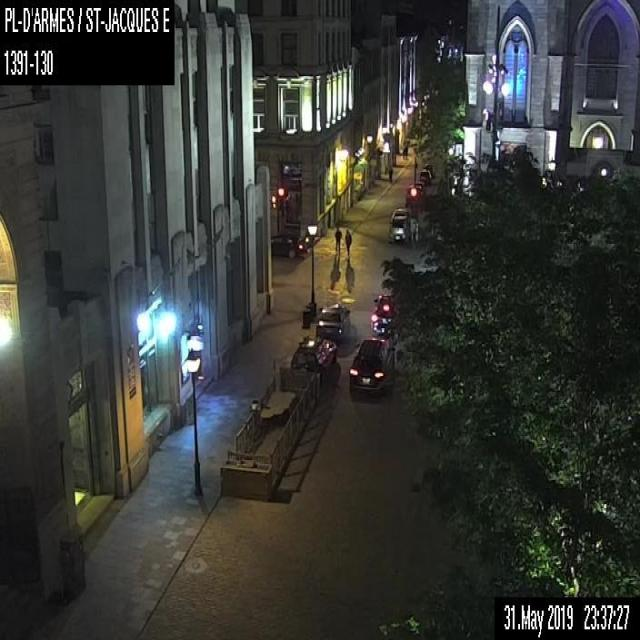pedestrian: (334, 224, 342, 253), (344, 228, 352, 257), (387, 164, 393, 182), (404, 144, 408, 158), (402, 147, 404, 158)
vehicle: (347, 336, 393, 395), (289, 336, 337, 380), (315, 302, 350, 339), (370, 293, 396, 334), (270, 232, 304, 258), (387, 207, 411, 242), (406, 184, 422, 201), (419, 168, 431, 182)
